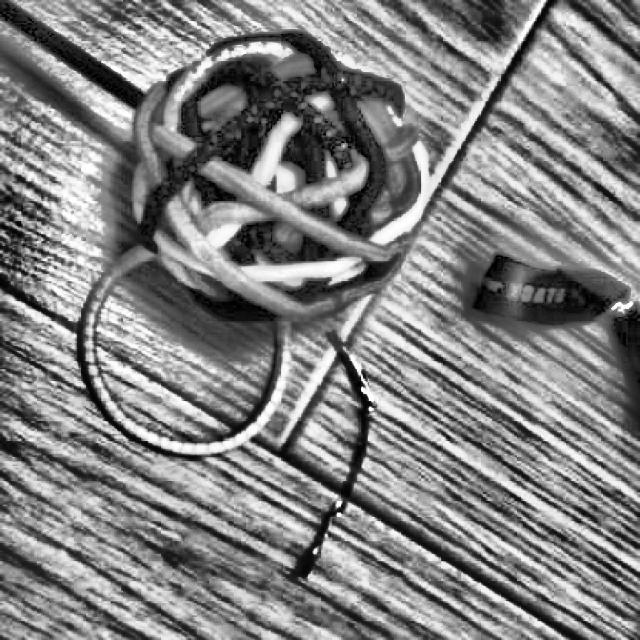Cable: (0, 0, 435, 458)
